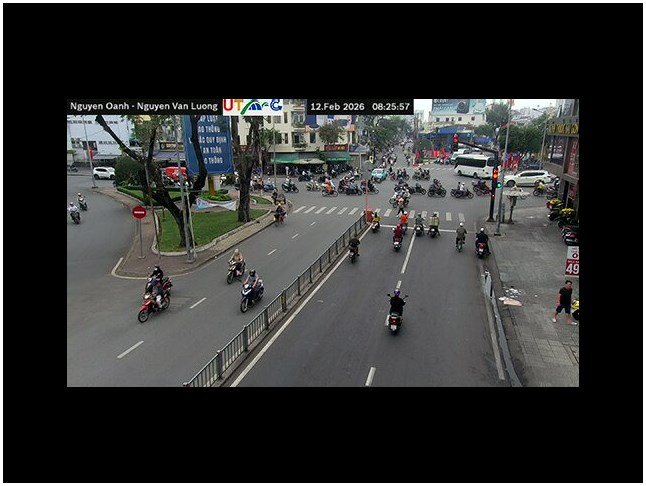car: (450, 182, 473, 198), (92, 165, 115, 180)
motorbike: (240, 275, 265, 313), (137, 292, 161, 323)
